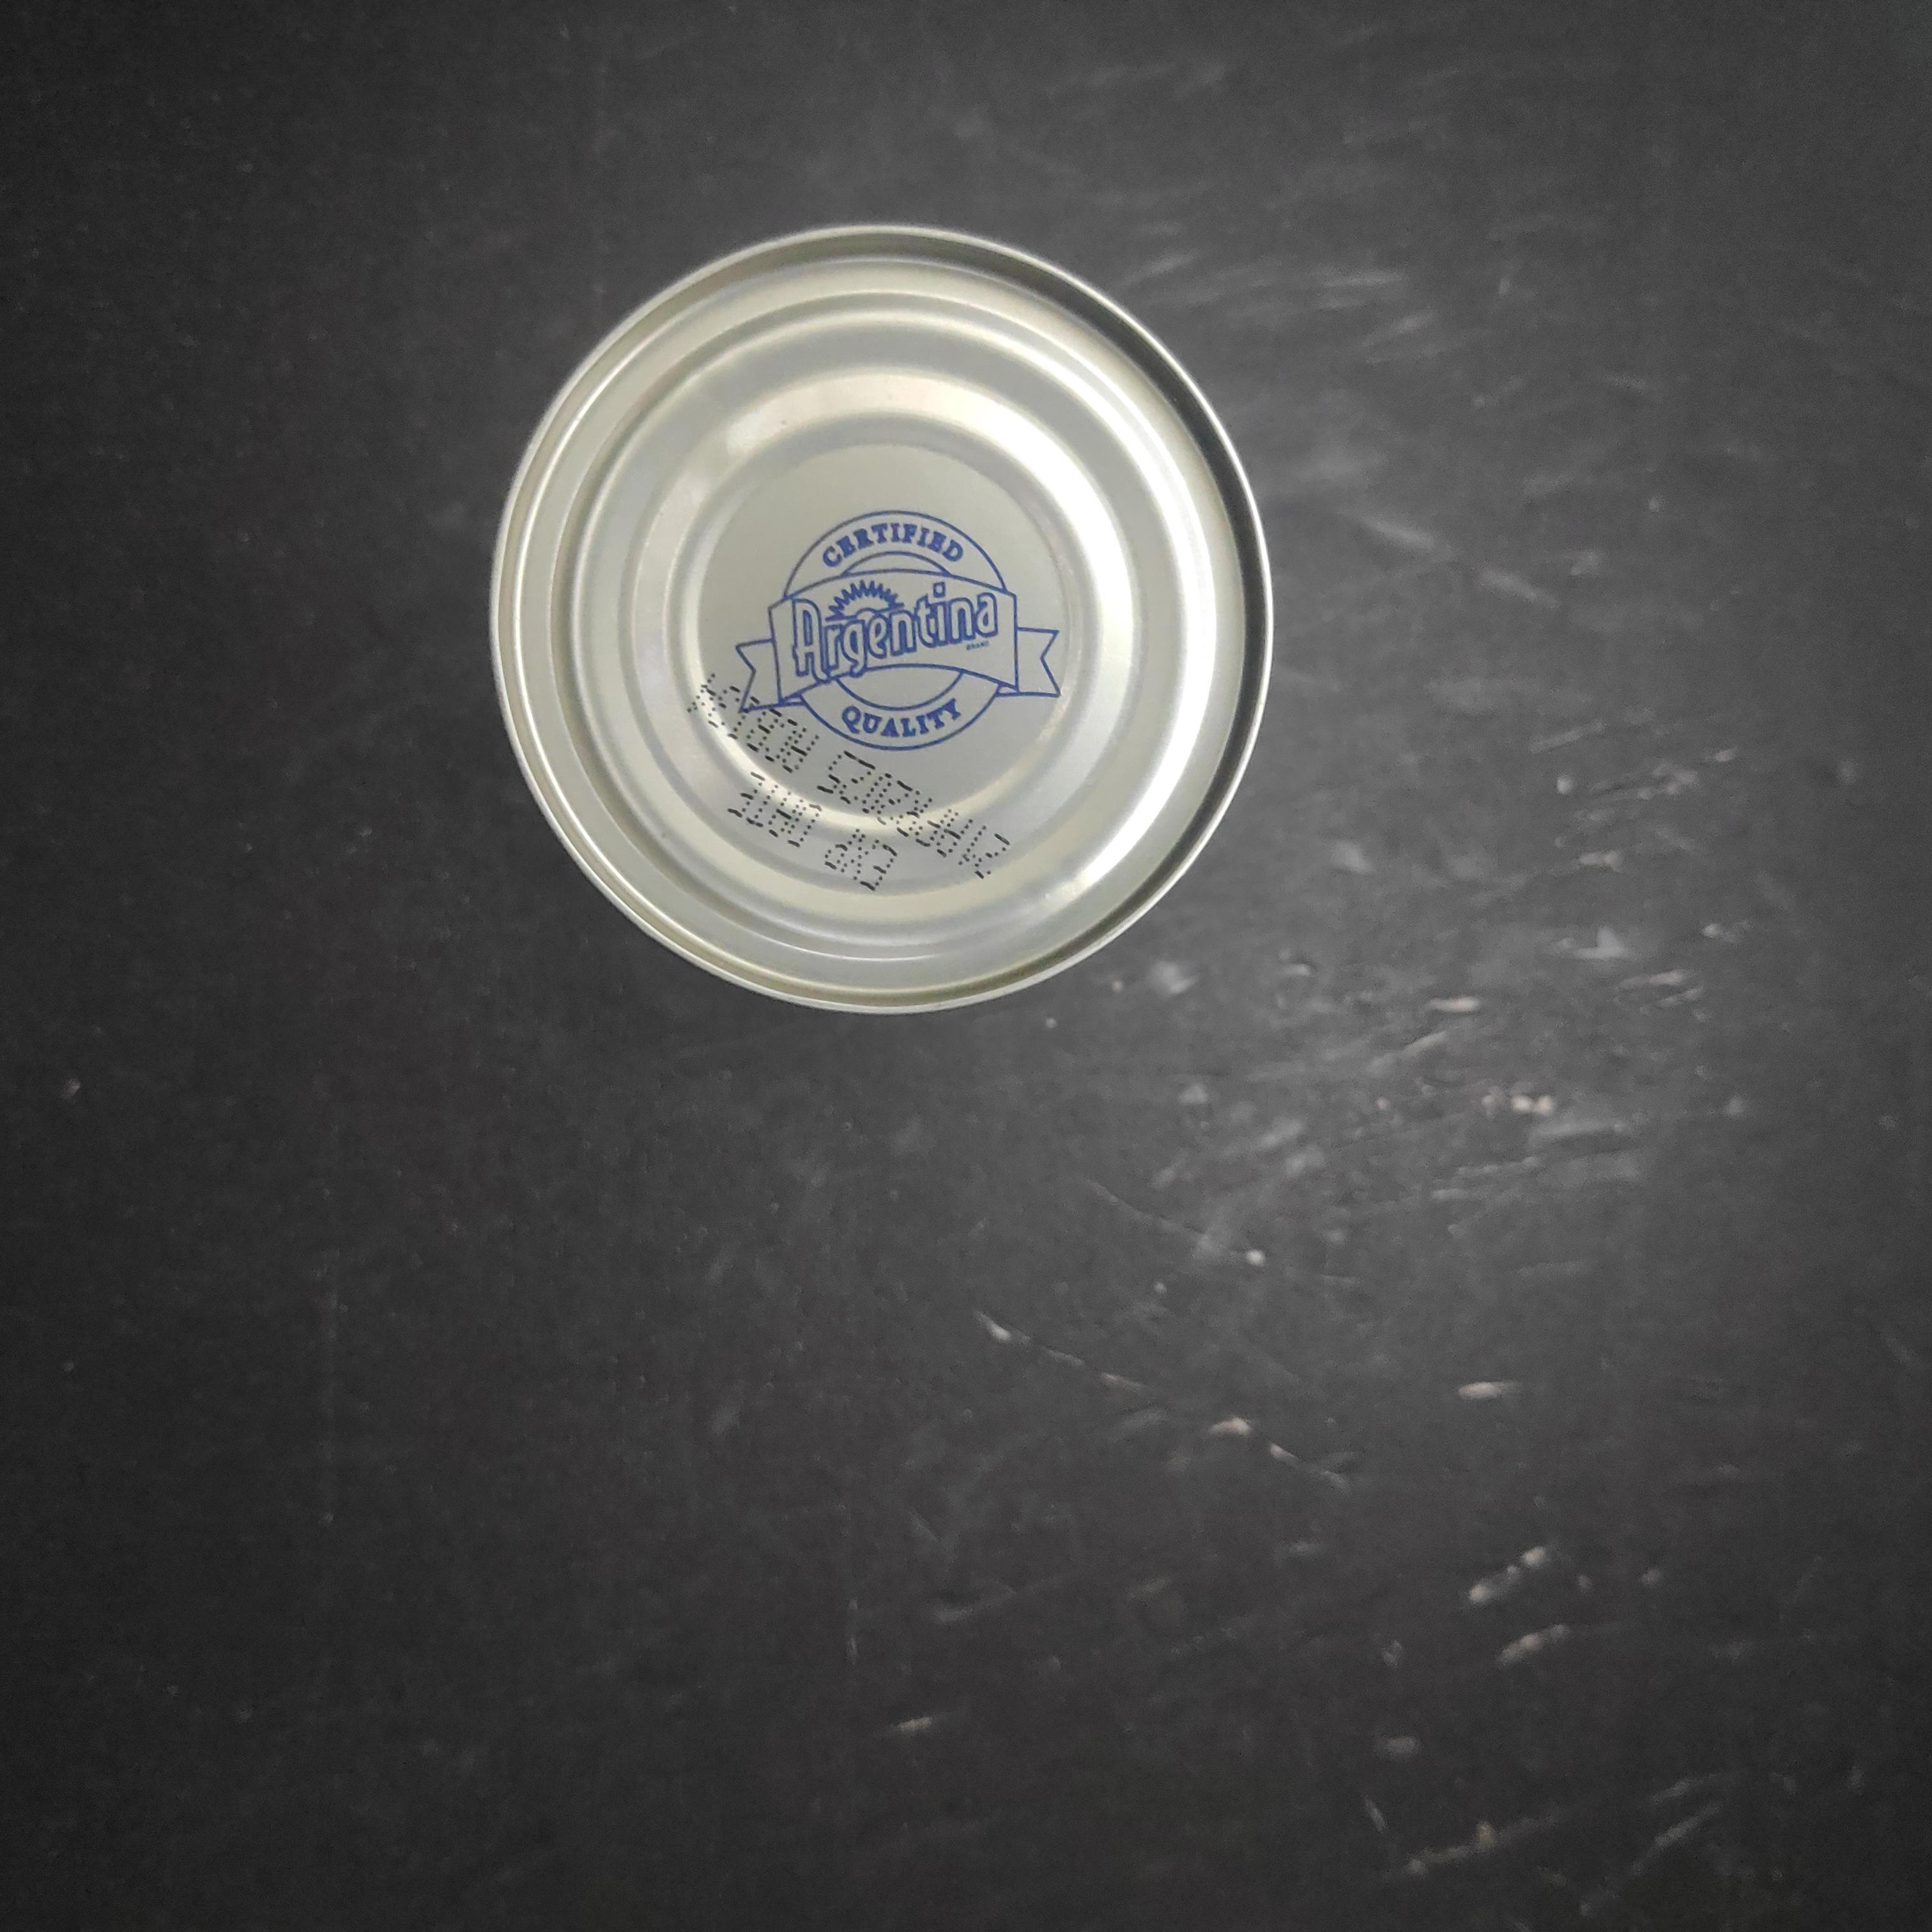No defect: (915, 485, 1714, 1276)
